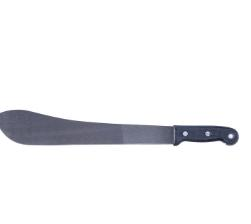MACHETTE: (0, 105, 251, 160)
